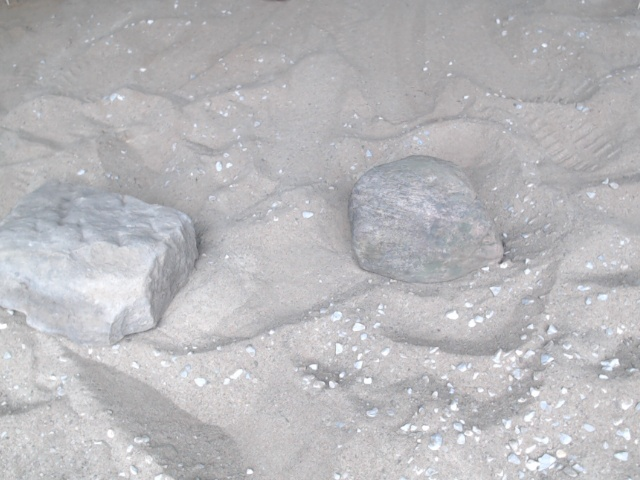rock: (1, 173, 203, 348), (342, 148, 508, 290)
